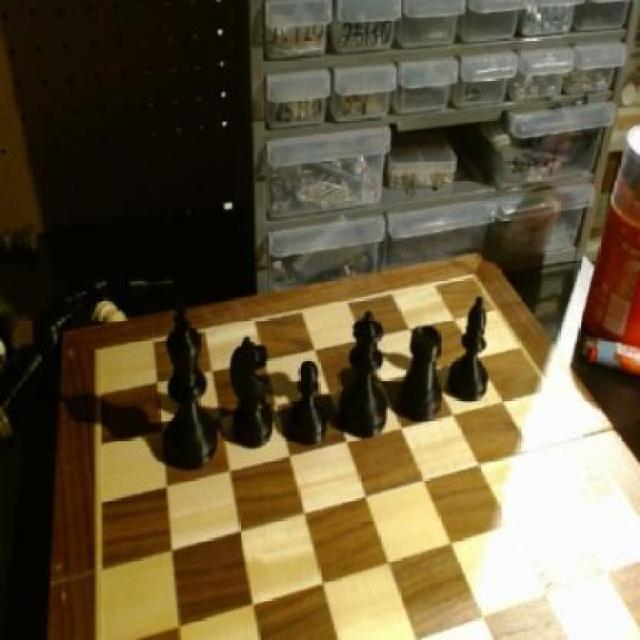bishop: (446, 296, 496, 406)
black-bishop: (161, 302, 224, 473)
black-king: (228, 336, 282, 456)
black-knight: (291, 360, 330, 448)
black-pawn: (342, 308, 392, 433)
black-queen: (402, 320, 446, 418)
